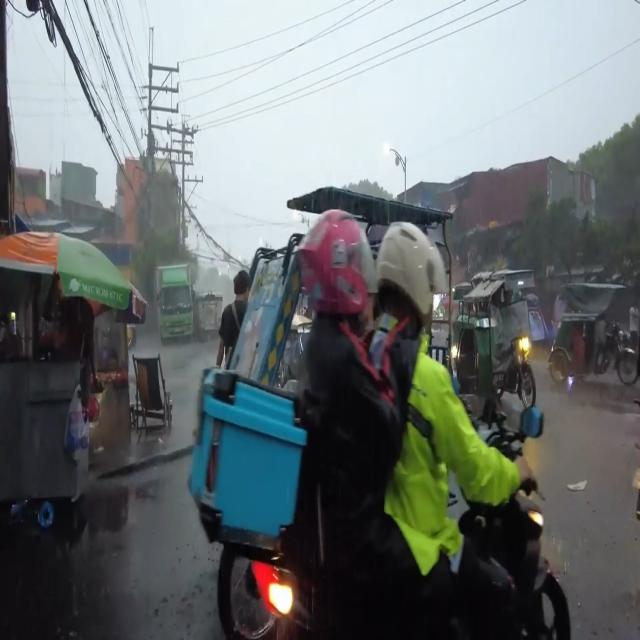half: (296, 210, 379, 315), (374, 221, 448, 331)
